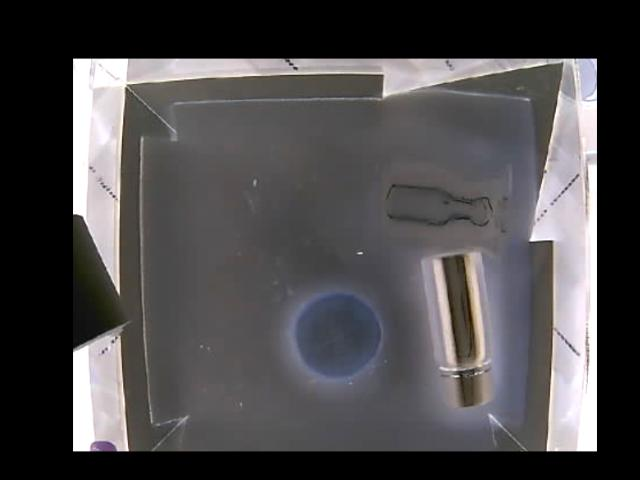Bottle: (419, 250, 496, 407), (383, 166, 507, 241)
Mooli: (293, 292, 381, 380)
